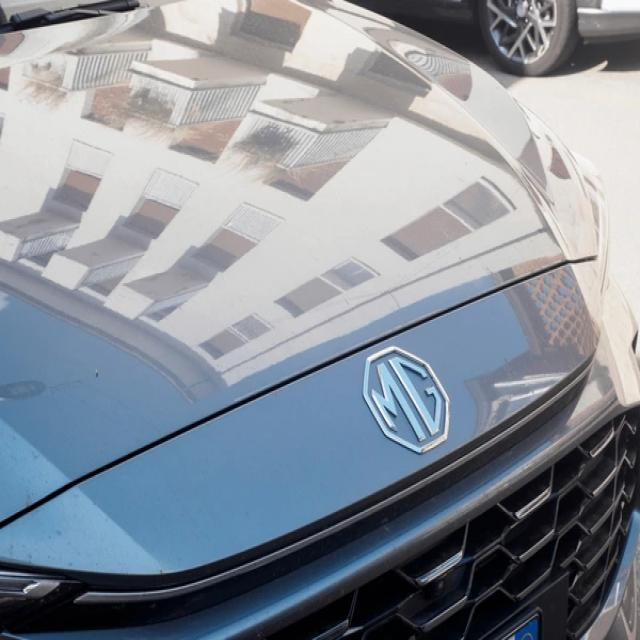mg: (358, 335, 452, 465)
